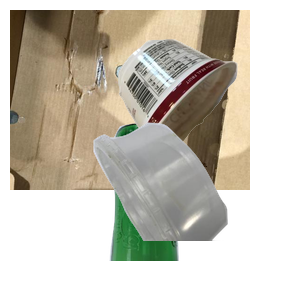cardboard: (10, 10, 250, 190)
glass: (107, 120, 278, 300)
plastic: (91, 120, 300, 300)
trash: (116, 36, 300, 187)
